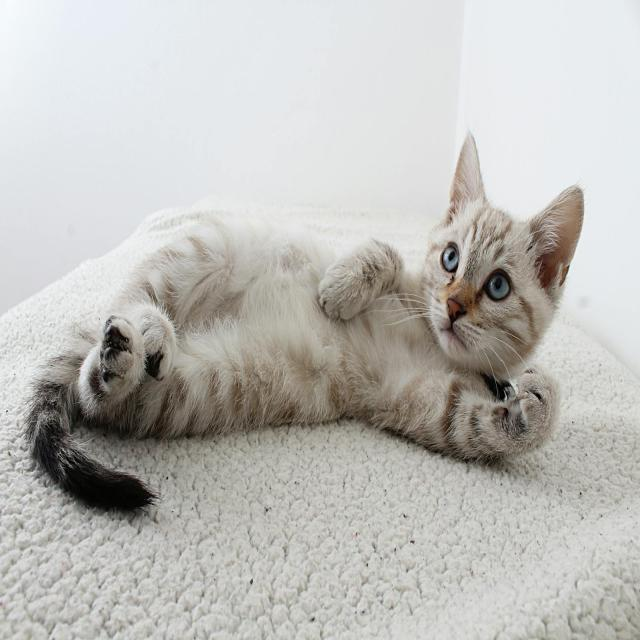Cat: (21, 129, 585, 512)
